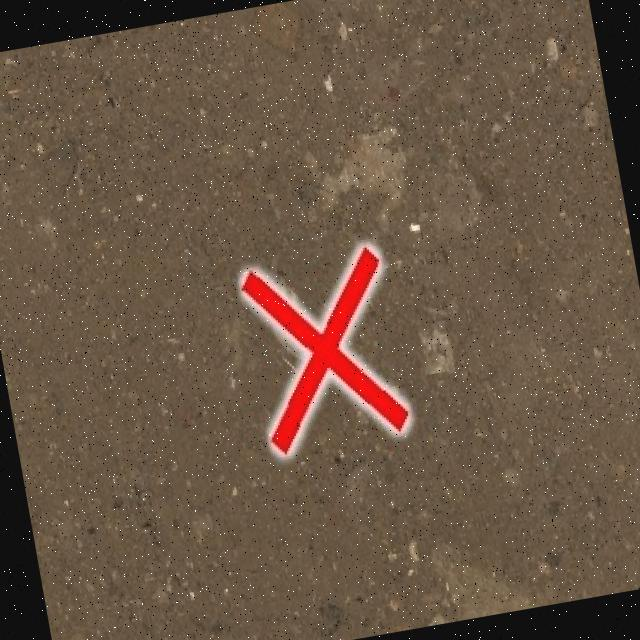x_marker: (238, 243, 410, 454)
